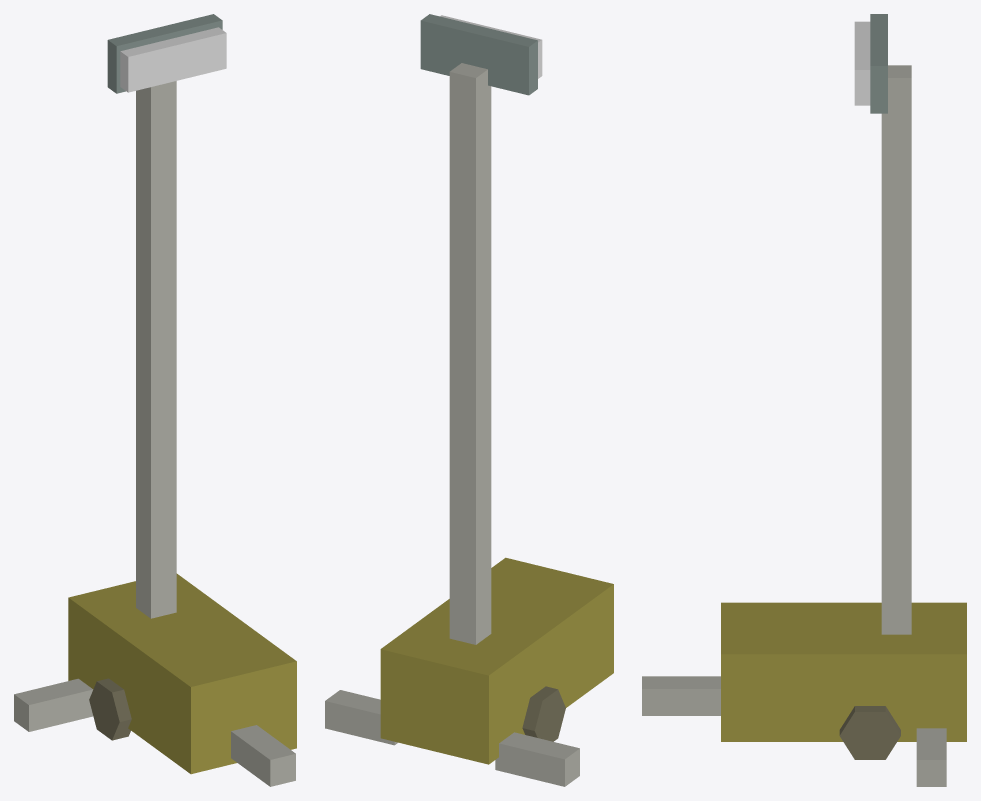
File: SM_TorreLuz_v0_Desplegada_LOD1.fbx
3 views of the same model, side by side, from view 1: azimuth 30°, elevation 25°; view 2: azimuth 150°, elevation 25°; view 3: azimuth 270°, elevation 25° (orthographic). The views are drawn at different scales.
Visible parts, largest first — view 1: SM_ambiente_aerodromo_v15_LOD1; view 2: SM_ambiente_aerodromo_v15_LOD1; view 3: SM_ambiente_aerodromo_v15_LOD1.
Boxes of the visible parts, x1,y1,x2,y2 form: SM_ambiente_aerodromo_v15_LOD1: (14, 14, 296, 786); SM_ambiente_aerodromo_v15_LOD1: (325, 14, 613, 786); SM_ambiente_aerodromo_v15_LOD1: (642, 14, 966, 786).
Bounding box in the file's own units: 3.1 × 8.67 × 3.7.
